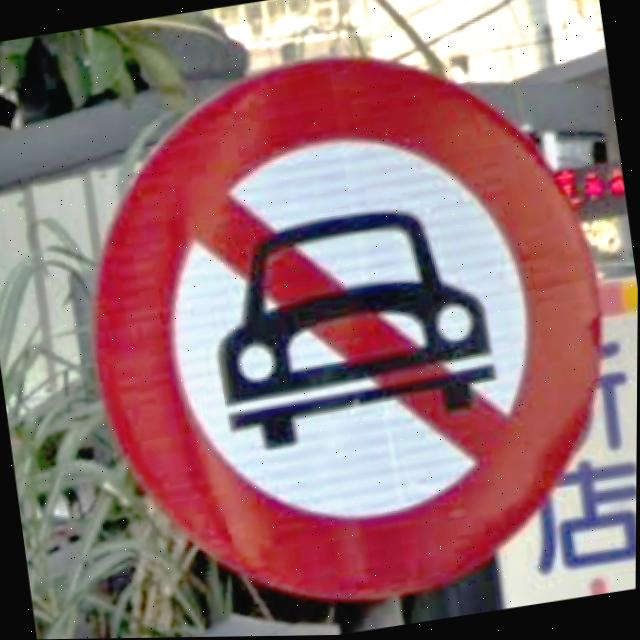nocar: (93, 59, 604, 605)
